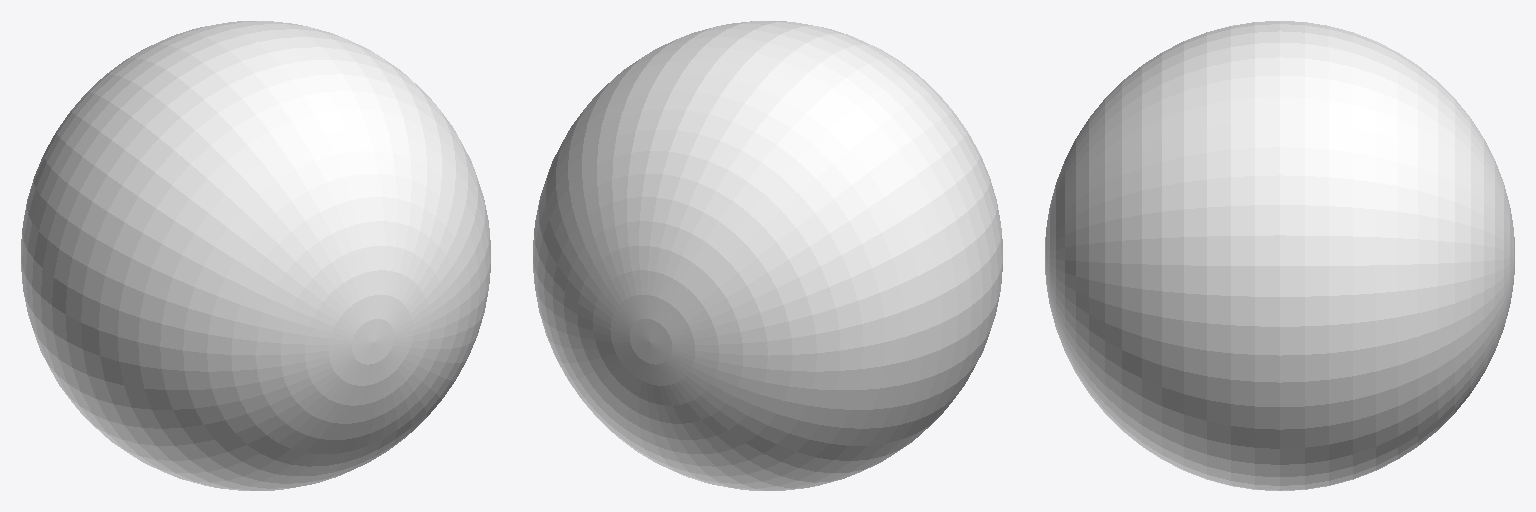
Rendered from luna.obj.
3 views of the same model, side by side, from view 1: azimuth 30°, elevation 25°; view 2: azimuth 150°, elevation 25°; view 3: azimuth 270°, elevation 25° (orthographic).
Parts seen in each view (by area): view 1: Object.1; view 2: Object.1; view 3: Object.1.
Boxes of the visible parts, box(x1,y1,x2,y2) form: Object.1: box(21, 21, 490, 490); Object.1: box(533, 21, 1002, 490); Object.1: box(1045, 21, 1514, 490).
Size of the model in its own units: 2000 by 2000 by 2000.